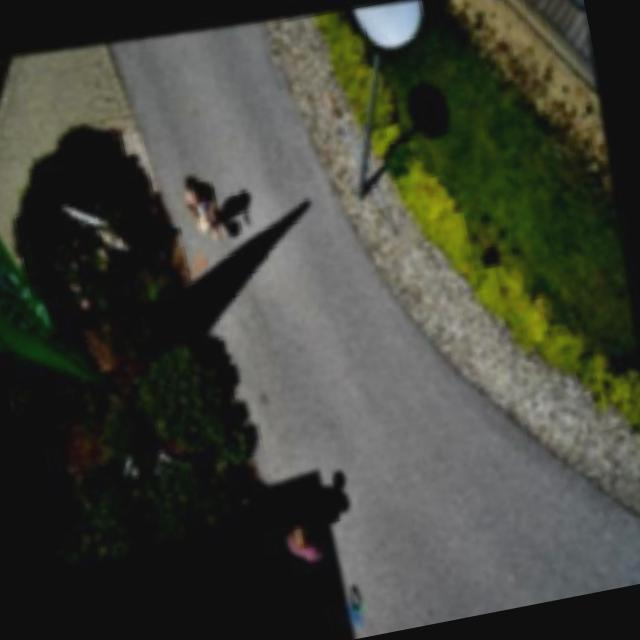Person: (170, 157, 240, 254), (280, 500, 347, 568)
